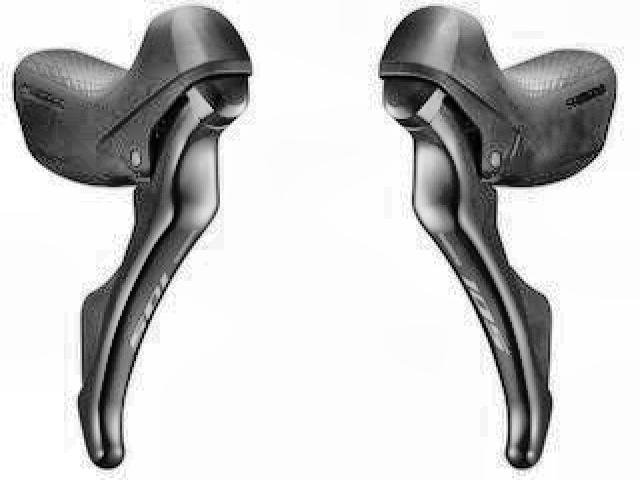sti_shifter: (15, 5, 258, 474), (379, 5, 614, 466)
